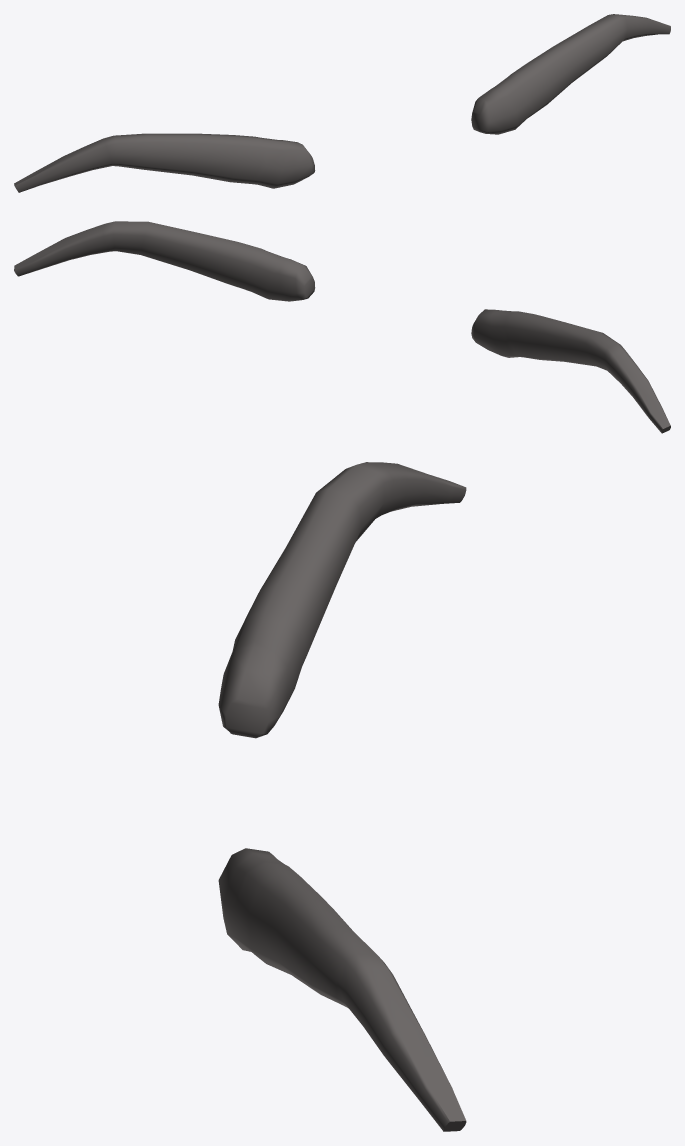
Rendered from Eyebrows_11_04.fbx.
3 views of the same model, one above another, from view 1: azimuth 30°, elevation 25°; view 2: azimuth 150°, elevation 25°; view 3: azimuth 270°, elevation 25° (orthographic). The views are drawn at different scales.
Visible parts, largest first — view 1: Eyebrows_11_04; view 2: Eyebrows_11_04; view 3: Eyebrows_11_04.
Boxes of the visible parts, left/top/right/bottom form: Eyebrows_11_04: left=14, top=14, right=670, bottom=192; Eyebrows_11_04: left=14, top=221, right=670, bottom=433; Eyebrows_11_04: left=218, top=462, right=466, bottom=1131.
Bounding box in the file's own units: 19.56 × 1.82 × 3.2.
